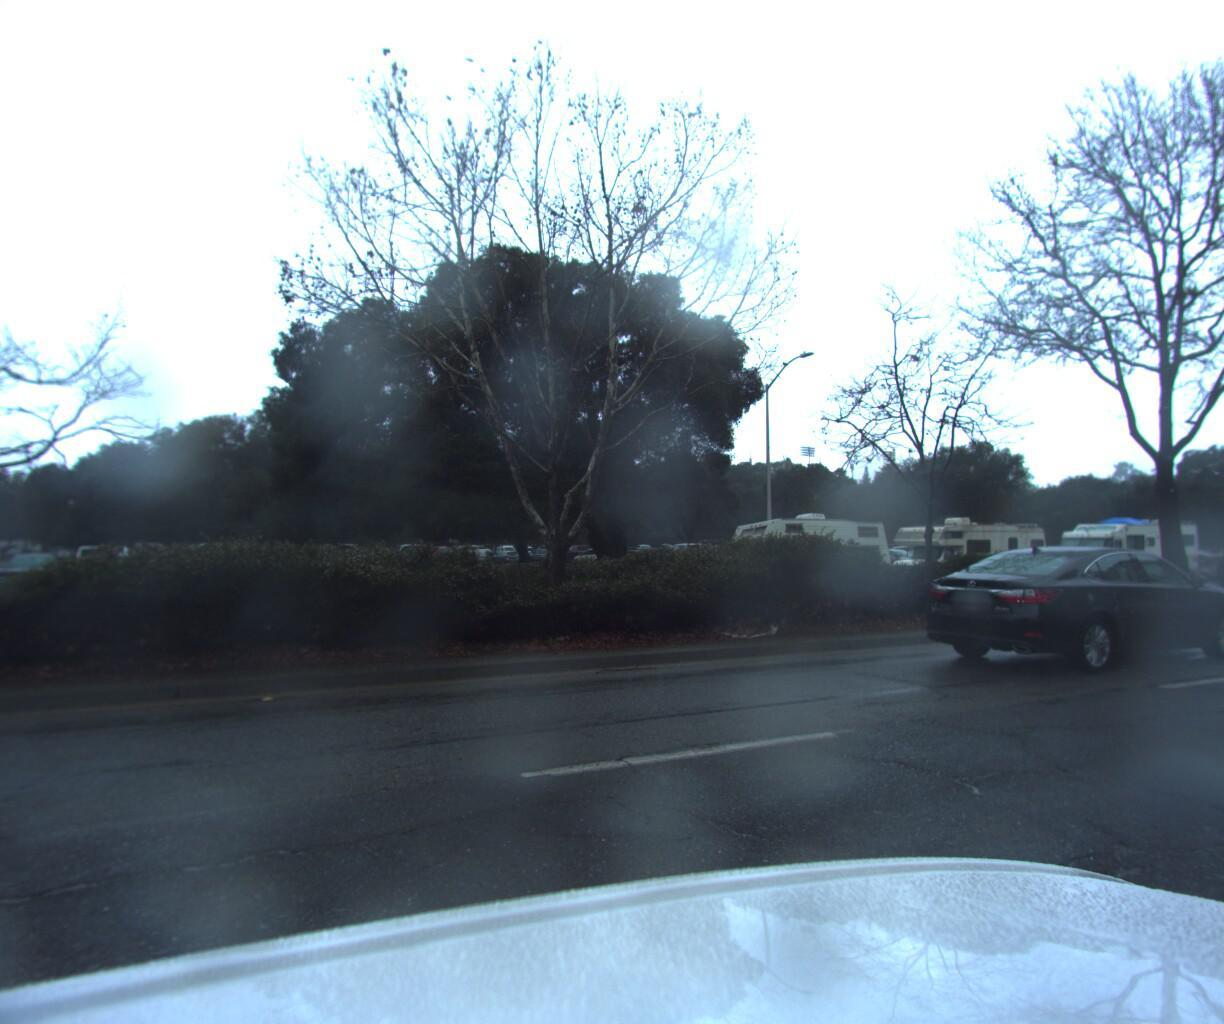car: (891, 531, 1224, 679), (651, 537, 741, 577), (1152, 540, 1222, 560)
other_vehicle: (724, 508, 893, 598), (880, 513, 1050, 591), (1042, 513, 1201, 588)
